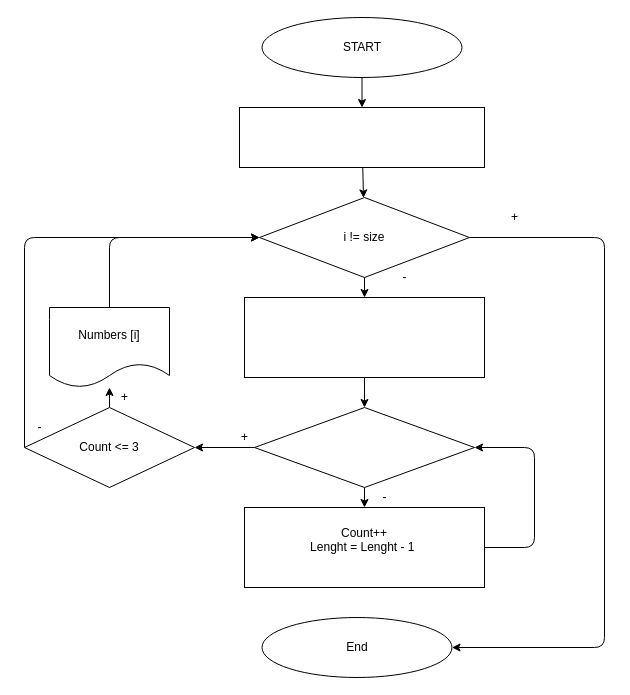
Image size: 630x695. Some labels were removed from this diagram. Each missing label, with the box of its shape:
char Numbers [size] = Random (1, 100 000) i = 0: (238, 106, 484, 168)
Count = 0 Lenght = get.Lenght Numbers[i]: (244, 296, 484, 378)
Lendht != 0: (254, 406, 474, 488)
